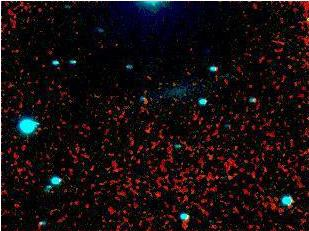star: (293, 10, 309, 40)
